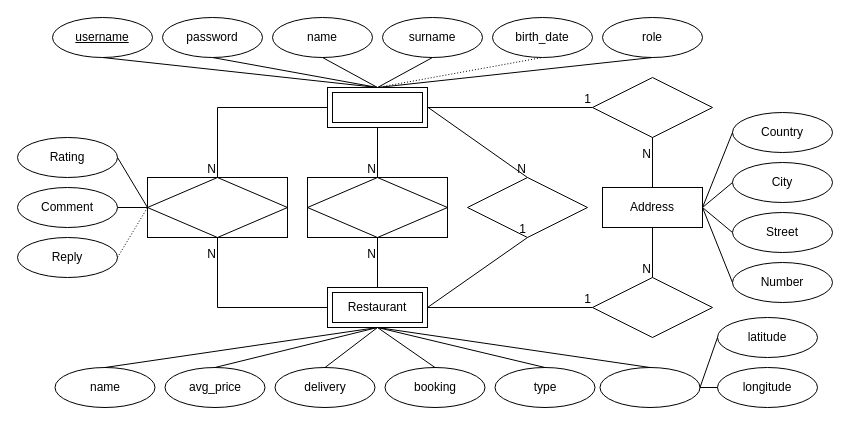
Some shapes in this 850 by 425 pixel diagram are drawn without their labels. Each missing label, with the centre of its shape:
coordinates: the point at 649,387
Favorites: the point at 377,207
lives in: the point at 652,107
located at: the point at 652,307
owns: the point at 527,207
Reviews: the point at 217,207
User: the point at 377,107
